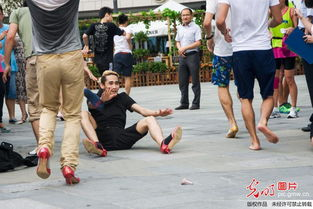10+: (1, 1, 313, 182)
down: (79, 69, 190, 157)
